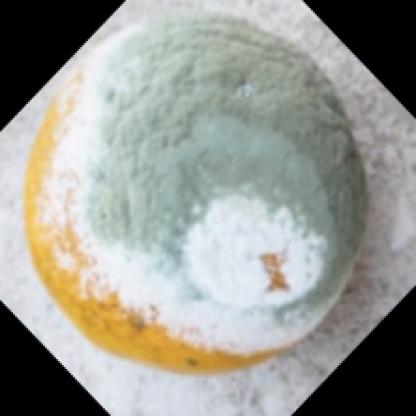rotten: (22, 16, 368, 374)
